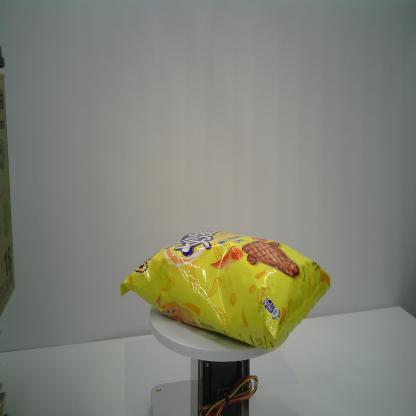Puffed Food: (119, 228, 332, 352)
